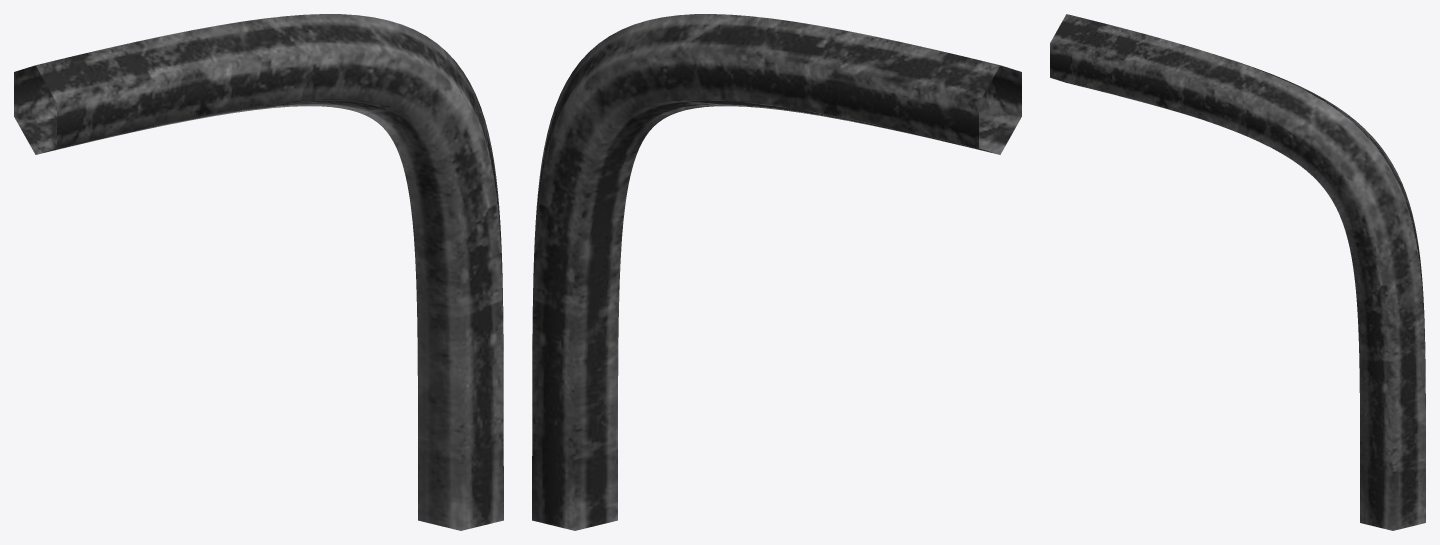
File: bunker_pipes.glb
The picture shows the model from 3 angles, left to right: view 1: azimuth 30°, elevation 25°; view 2: azimuth 150°, elevation 25°; view 3: azimuth 330°, elevation 25°; orthographic projection. The views are drawn at different scales.
Visible parts, largest first — view 1: bunker_pipes; view 2: bunker_pipes; view 3: bunker_pipes.
Boxes of the visible parts, left/top/right/bottom form: bunker_pipes: left=14, top=14, right=503, bottom=530; bunker_pipes: left=532, top=14, right=1021, bottom=530; bunker_pipes: left=1050, top=14, right=1425, bottom=530.
Bounding box in the file's own units: 1.7 × 1.9 × 0.2693.
1 material, 1 textured.
